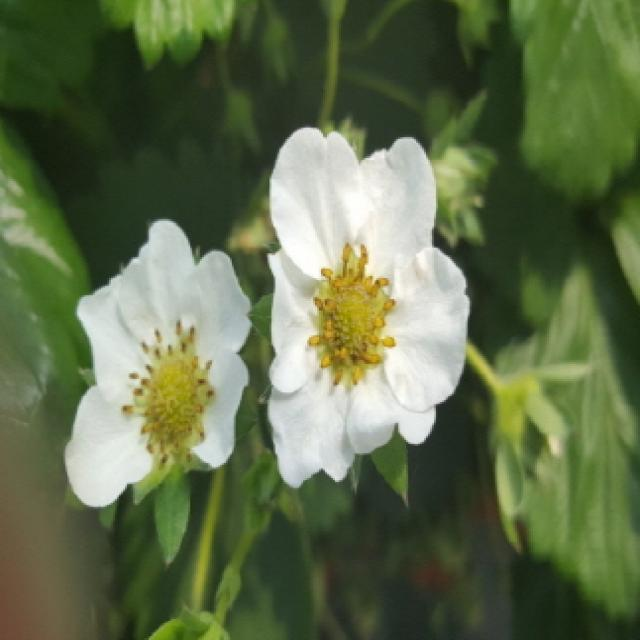Blossom Blight: (114, 313, 221, 468)
